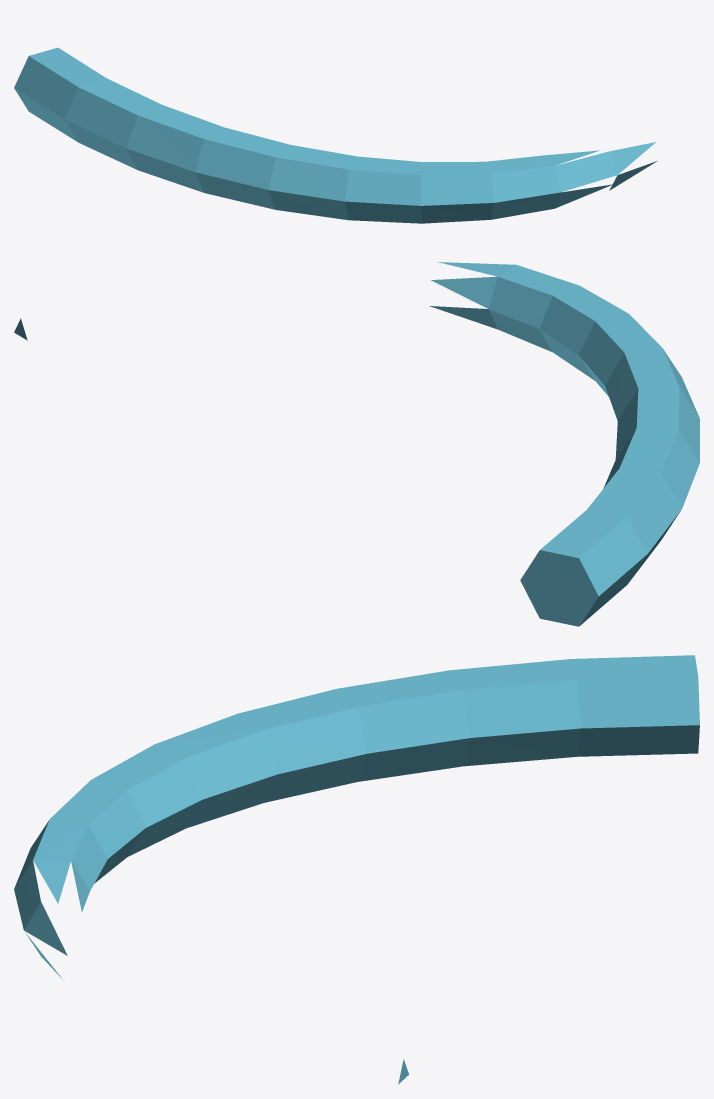
File: blade-sickle.lod.glb
The picture shows the model from 3 angles, top to bottom: view 1: azimuth 30°, elevation 25°; view 2: azimuth 150°, elevation 25°; view 3: azimuth 270°, elevation 25°; orthographic projection. The views are drawn at different scales.
Visible parts, largest first — view 1: m; view 2: m; view 3: m.
Boxes of the visible parts, bbox=[...] form: m: bbox=[14, 47, 657, 223]; m: bbox=[14, 262, 699, 626]; m: bbox=[14, 655, 699, 1084].
Size of the model in its own units: 0.136 by 0.0125 by 0.1.
